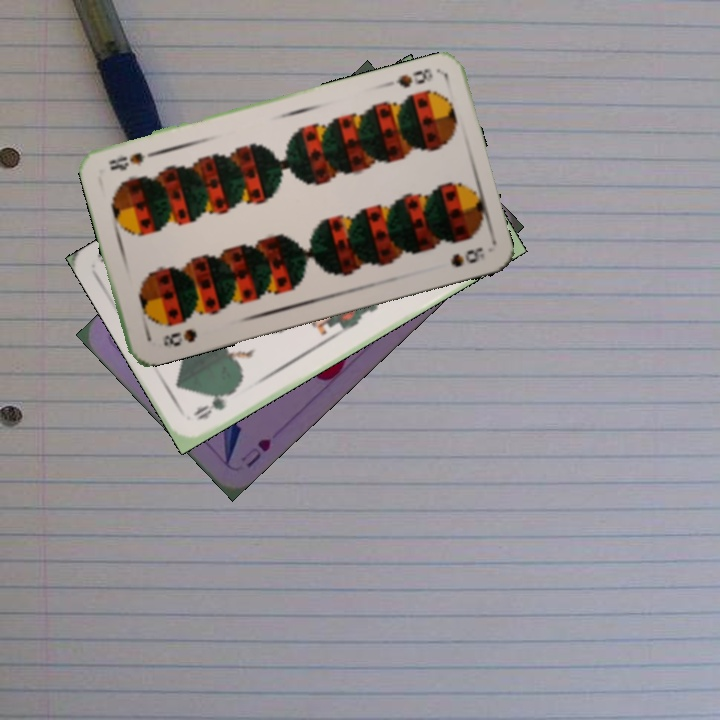GO: (189, 383, 240, 423)
HU: (242, 434, 275, 471)
S8: (392, 64, 436, 91), (158, 324, 200, 349)
